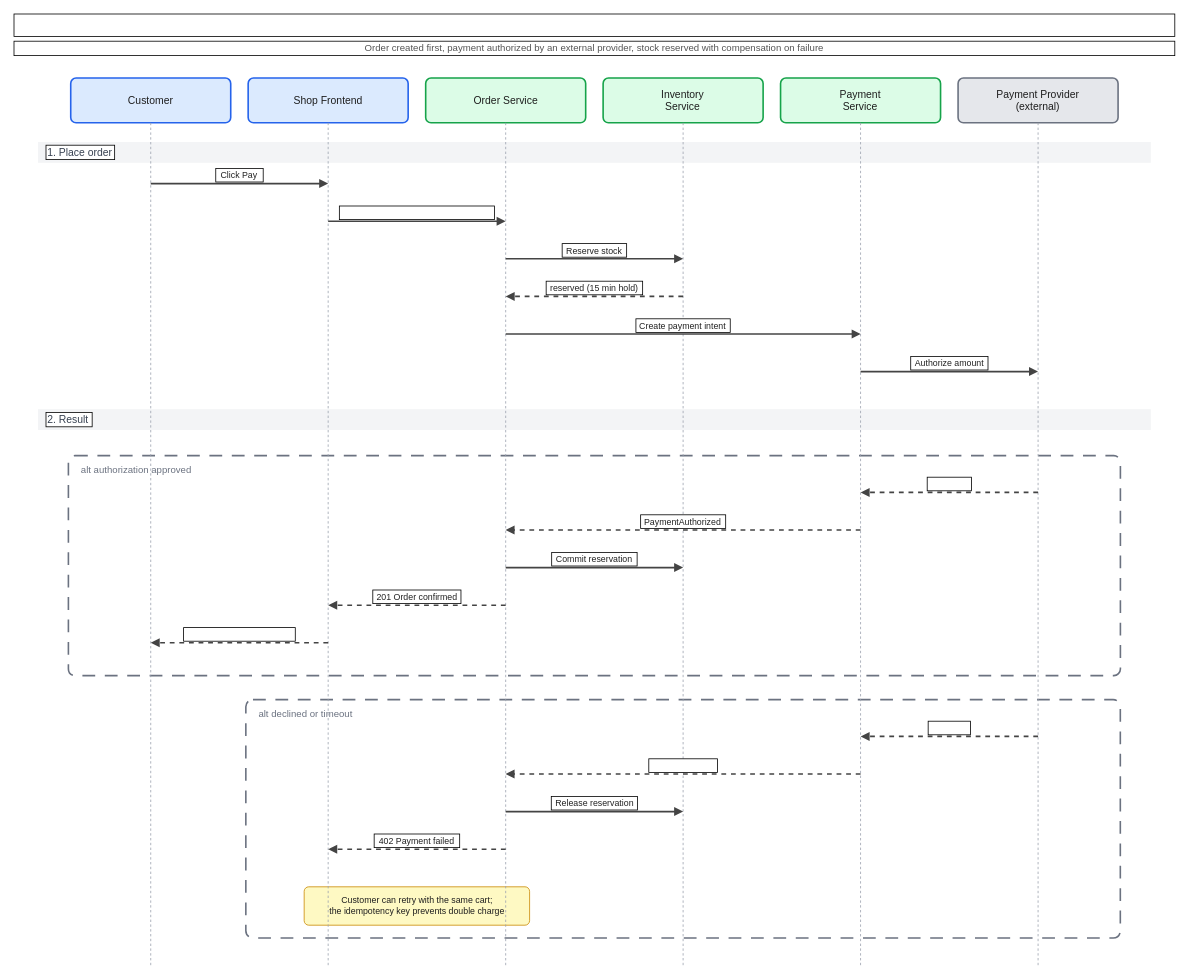
The diagram is 1189 pixels wide and 980 high, and some of its shapes have lost their labels. The centre of each missing label's shape, as x and y in pixels:
approved: the point at 948,483
Checkout and payment: the point at 594,24
Confirmation page + email: the point at 239,634
declined: the point at 948,727
PaymentFailed: the point at 682,765
POST /orders (cart, idempotency key): the point at 416,212
